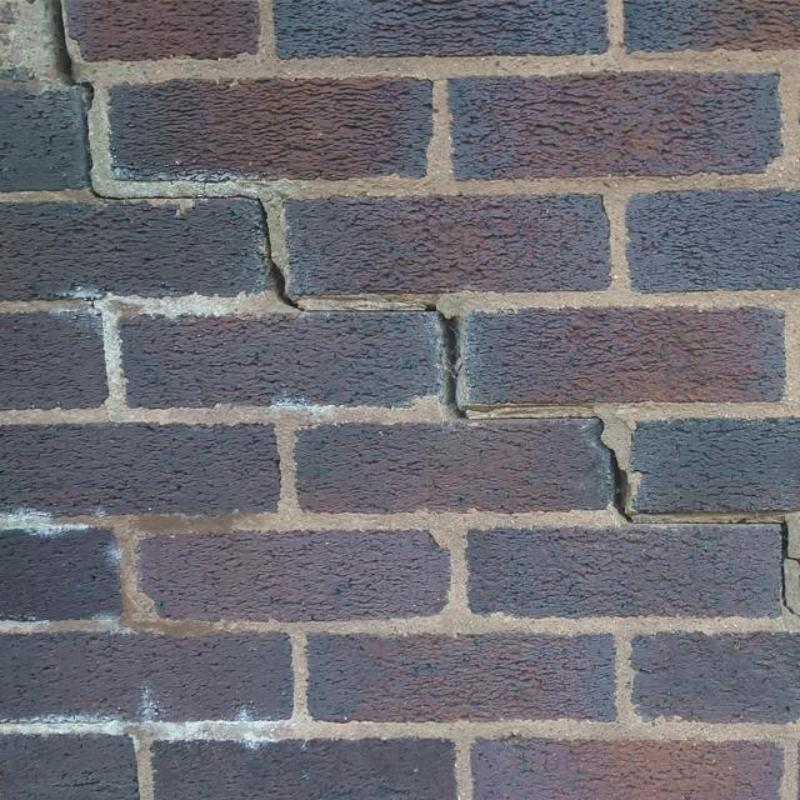pothole: (55, 4, 306, 311), (424, 304, 469, 420), (471, 415, 605, 445), (605, 444, 634, 524), (780, 521, 799, 617), (634, 520, 779, 525), (306, 309, 424, 312)
